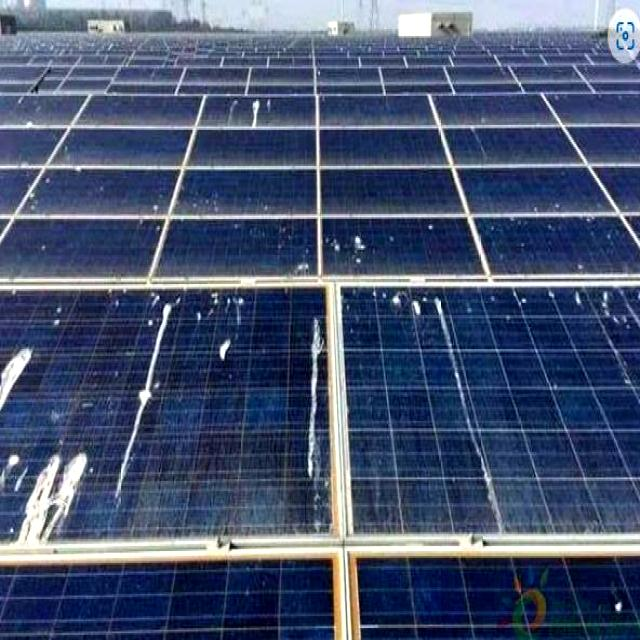bird: (304, 314, 332, 525), (114, 370, 152, 502), (33, 450, 87, 542), (208, 284, 257, 372), (459, 280, 521, 344), (532, 280, 636, 318), (142, 293, 198, 357), (0, 344, 42, 409), (326, 226, 379, 276), (432, 286, 455, 382), (384, 288, 434, 332), (599, 572, 631, 627), (226, 96, 280, 126), (42, 304, 84, 338), (12, 118, 46, 134)
